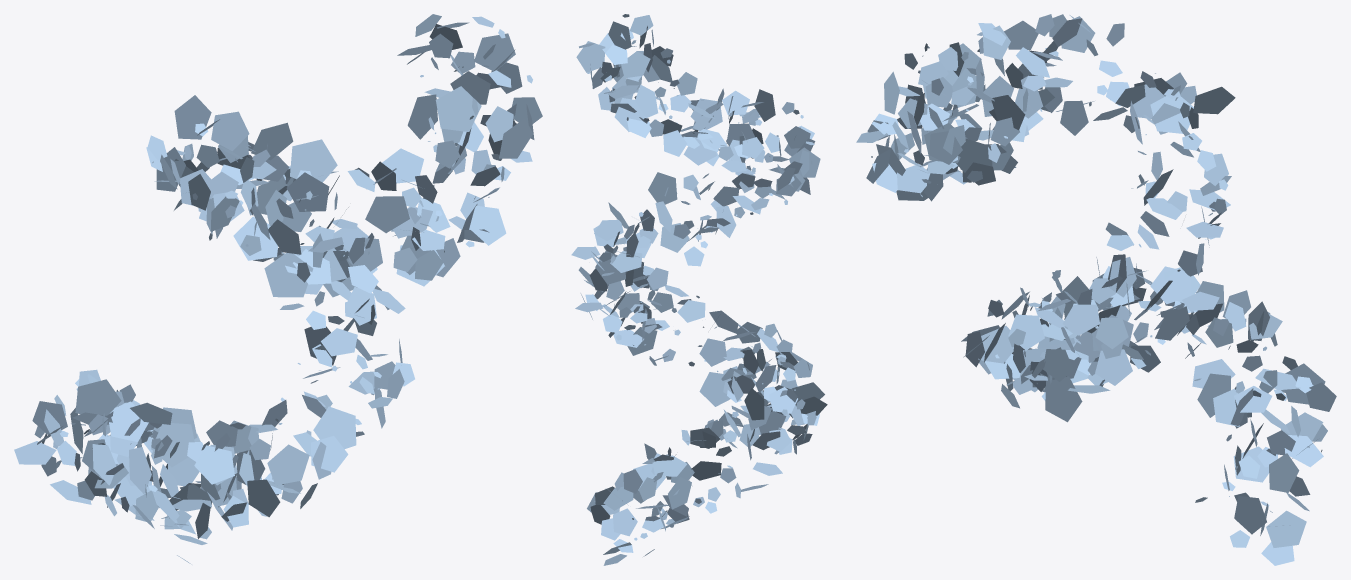
File: CLOUD.dae
3 views of the same model, side by side, from view 1: azimuth 30°, elevation 25°; view 2: azimuth 150°, elevation 25°; view 3: azimuth 270°, elevation 25° (orthographic). The views are drawn at different scales.
Parts seen in each view (by area): view 1: Disc_1.1; view 2: Disc_1.1; view 3: Disc_1.1.
Boxes of the visible parts, x1,y1,x2,y2 form: Disc_1.1: [14, 14, 542, 564]; Disc_1.1: [571, 14, 827, 565]; Disc_1.1: [856, 14, 1336, 565].
Size of the model in its own units: 59.11 by 89.4 by 66.31.
